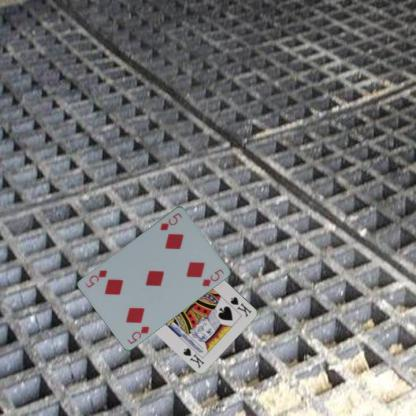5d: (157, 209, 184, 232), (125, 322, 151, 345)
Ks: (228, 294, 253, 318)
